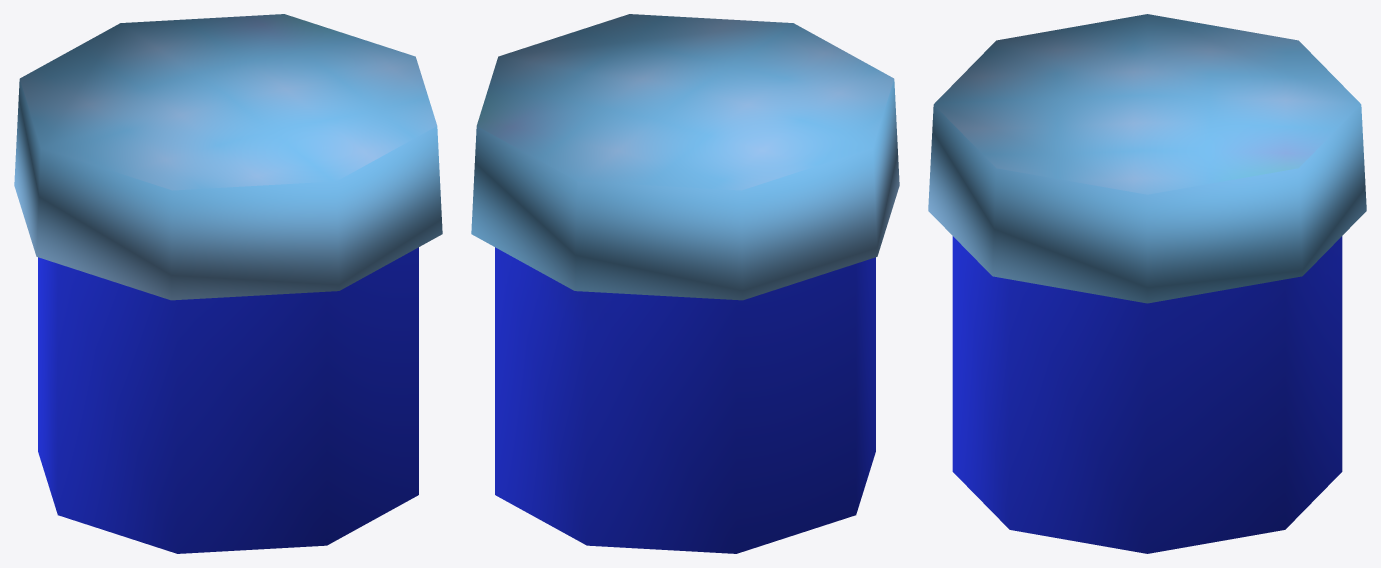
Rendered from PoteRemedio.fbx.
3 views of the same model, side by side, from view 1: azimuth 30°, elevation 25°; view 2: azimuth 150°, elevation 25°; view 3: azimuth 270°, elevation 25° (orthographic).
Parts seen in each view (by area): view 1: PoteRemedio; view 2: PoteRemedio; view 3: PoteRemedio.
Part boxes in pixels (x1=…): PoteRemedio: x1=14, y1=14, x2=442, y2=553; PoteRemedio: x1=471, y1=14, x2=899, y2=553; PoteRemedio: x1=928, y1=14, x2=1366, y2=553.
Bounding box in the file's own units: 21.83 × 20.62 × 21.83.
Materials: 1 (1 with a texture image).
